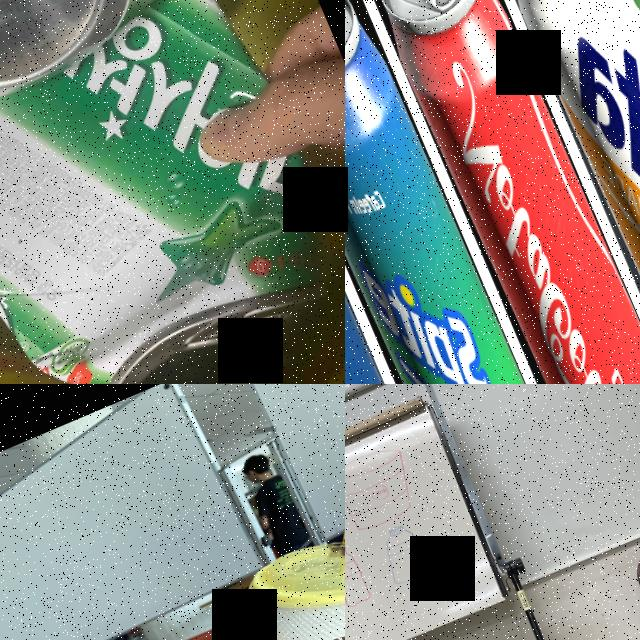can: (357, 0, 640, 384), (345, 0, 595, 384), (477, 0, 640, 384), (345, 14, 476, 384)
cup: (210, 512, 345, 640)
